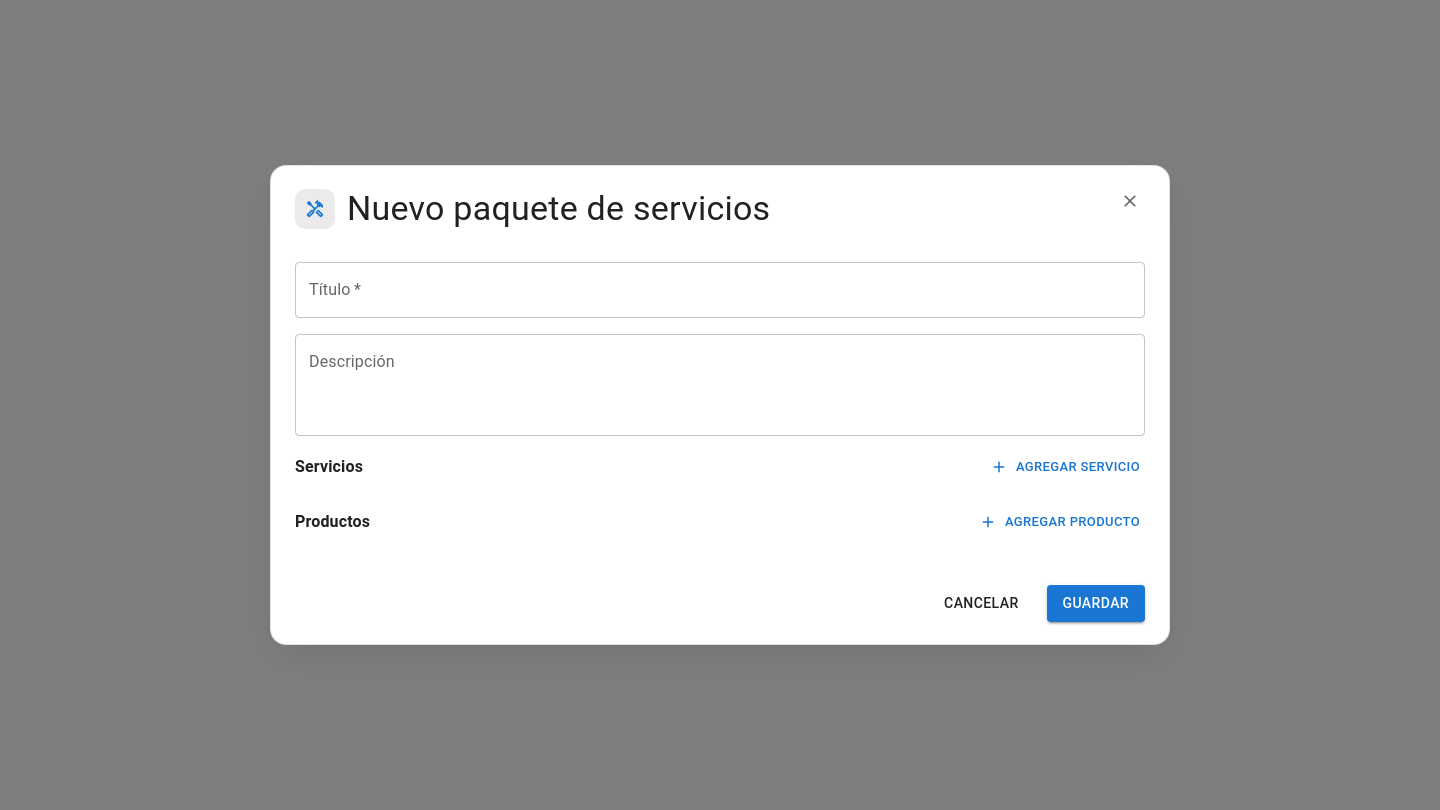
CannedJobFormDialog › given empty title, when clicking guardar, then shows validation error
Click the button "Guardar" at [1096, 604], box x1=1046 y1=586 x2=1145 y2=622
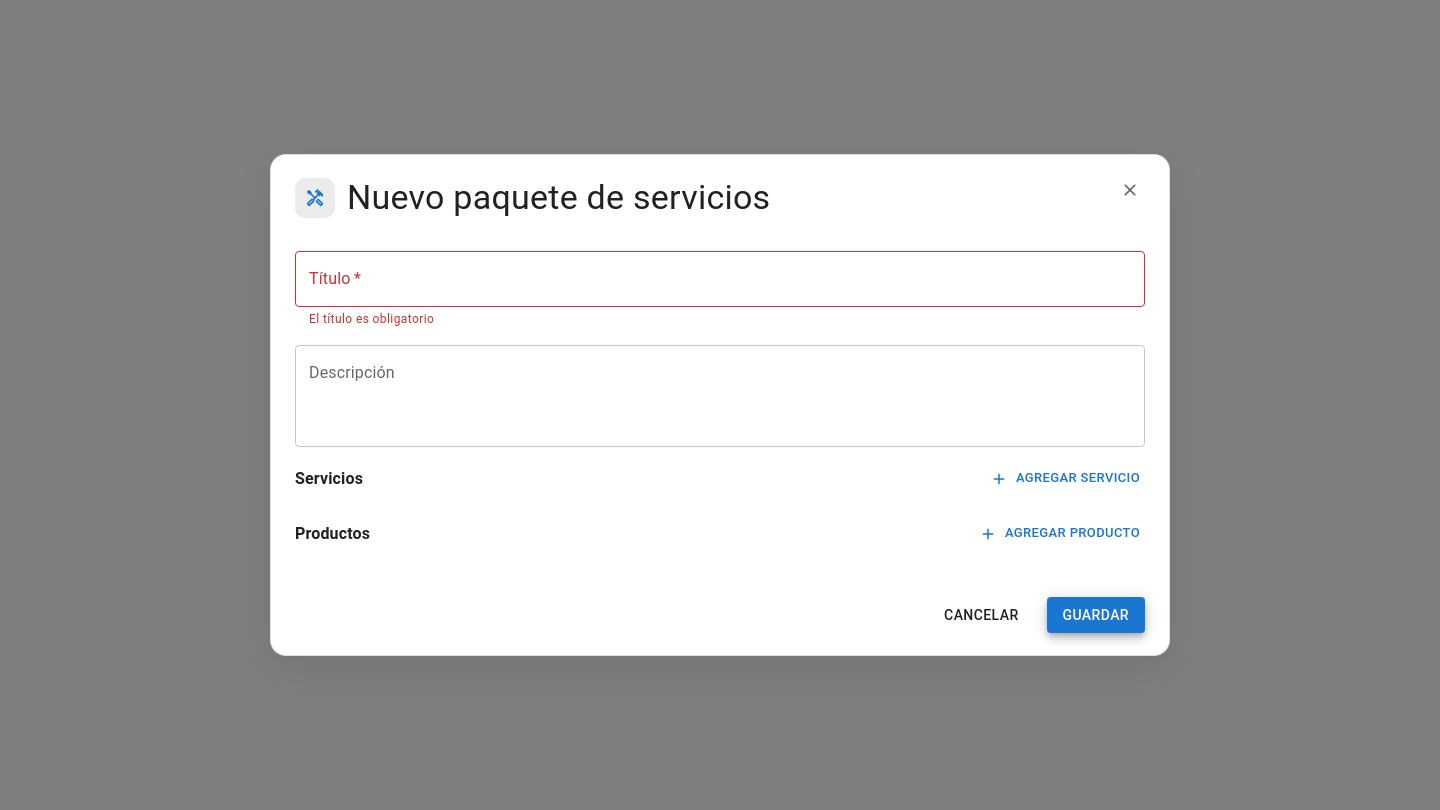
Check: the text "El título es obligatorio" is shown, box x1=309 y1=312 x2=434 y2=326
